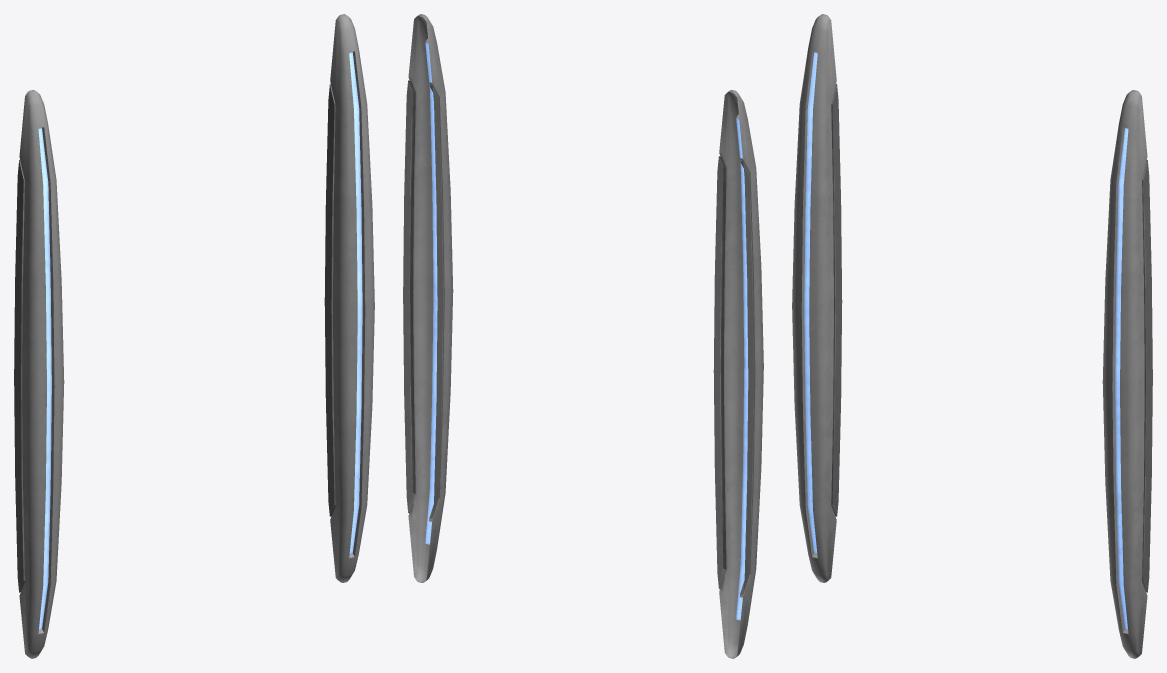
The model's file is autoportal_frame_compressed.glb.
The picture shows the model from 3 angles, left to right: view 1: azimuth 30°, elevation 25°; view 2: azimuth 150°, elevation 25°; view 3: azimuth 330°, elevation 25°; orthographic projection.
Visible parts, largest first — view 1: AutoportalFrame; view 2: AutoportalFrame; view 3: AutoportalFrame.
Boxes of the visible parts, x1,y1,x2,y2 form: AutoportalFrame: [14, 14, 374, 658]; AutoportalFrame: [403, 14, 763, 658]; AutoportalFrame: [792, 14, 1152, 658].
Bounding box in the file's own units: 1.53 × 2.39 × 0.1494.
Materials: 1 (1 with a texture image).
